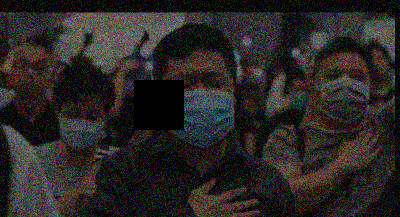with_mask: (162, 67, 233, 145), (313, 62, 371, 125), (57, 103, 106, 152), (125, 75, 147, 97), (290, 83, 309, 108)
without_mask: (12, 54, 50, 97), (369, 51, 389, 82)
